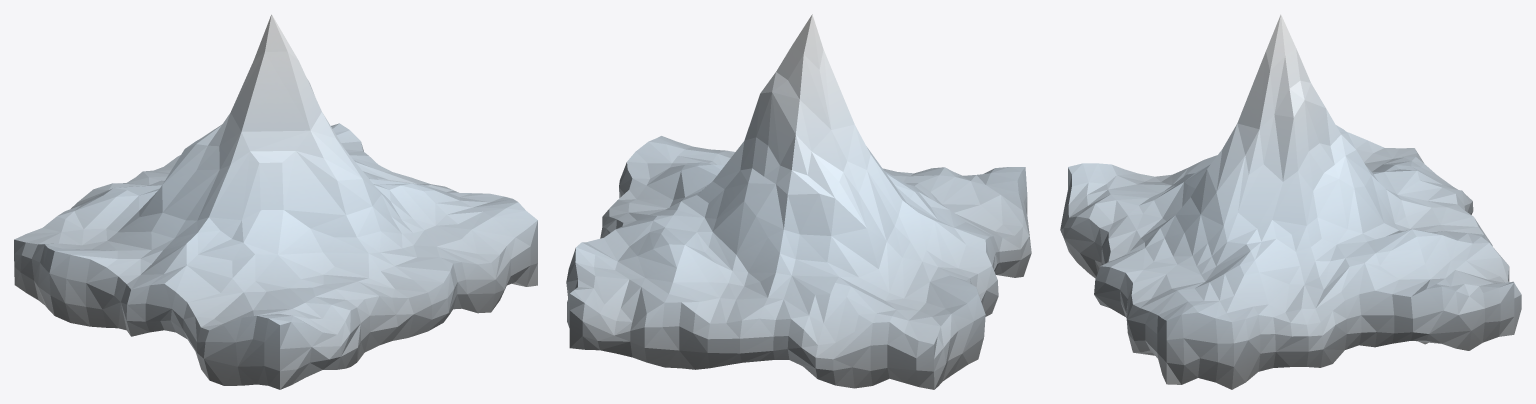
The model's file is Mountain_001.FBX.
3 views of the same model, side by side, from view 1: azimuth 30°, elevation 25°; view 2: azimuth 150°, elevation 25°; view 3: azimuth 270°, elevation 25° (orthographic). The views are drawn at different scales.
Parts seen in each view (by area): view 1: Mountain_001; view 2: Mountain_001; view 3: Mountain_001.
Boxes of the visible parts, x1,y1,x2,y2 form: Mountain_001: (14, 14, 537, 389); Mountain_001: (566, 14, 1031, 389); Mountain_001: (1060, 14, 1521, 389).
Size of the model in its own units: 2702 by 1824 by 2690.
1 material, 1 textured.
